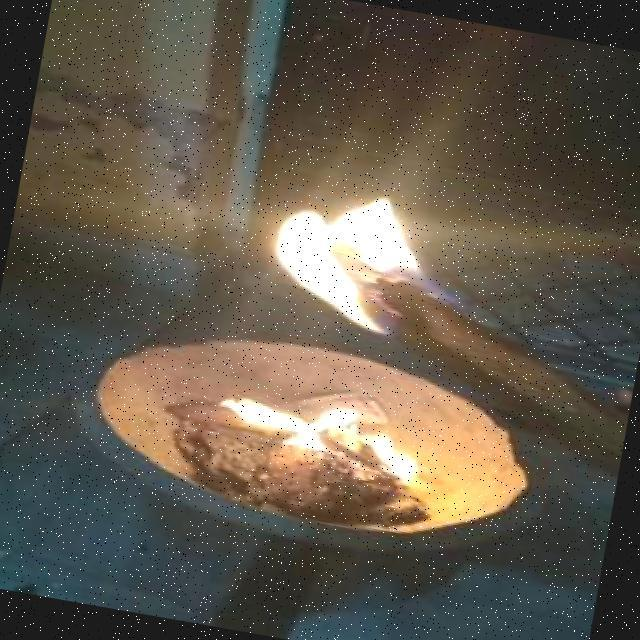Fire: (260, 154, 476, 350), (218, 386, 434, 487)
